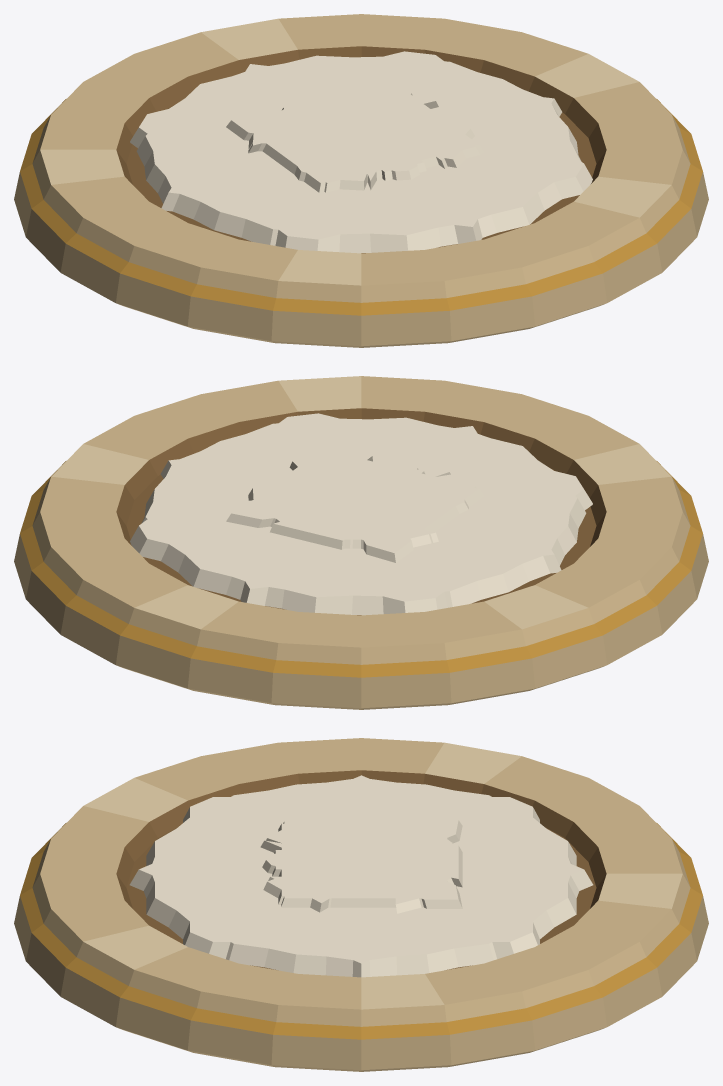
The model's file is SunnyLoop_MedallionKit_v1.fbx.
The picture shows the model from 3 angles, top to bottom: view 1: azimuth 30°, elevation 25°; view 2: azimuth 150°, elevation 25°; view 3: azimuth 270°, elevation 25°; orthographic projection.
Parts seen in each view (by area): view 1: SunnyLoop_Space_Base_v1, SunnyLoop_Space_Inlay_Circle_v1, SunnyLoop_Space_Inlay_Diamond_v1, SunnyLoop_Space_Inlay_Square_v1, SunnyLoop_Space_Inlay_Ring_v1, SunnyLoop_Space_Symbol_Duel_v1, SunnyLoop_Space_Symbol_Reward_v1, SunnyLoop_Space_Symbol_Shop_v1, SunnyLoop_Space_Symbol_Item_v1, SunnyLoop_Space_Symbol_Switch_v1, SunnyLoop_Space_Symbol_Event_v1, SunnyLoop_Space_Symbol_Lose_v1 (+2 smaller); view 2: SunnyLoop_Space_Base_v1, SunnyLoop_Space_Inlay_Circle_v1, SunnyLoop_Space_Inlay_Ring_v1, SunnyLoop_Space_Inlay_Square_v1, SunnyLoop_Space_Symbol_Item_v1, SunnyLoop_Space_Symbol_Switch_v1, SunnyLoop_Space_Symbol_Chaos_v1, SunnyLoop_Space_Symbol_Gain_v1, SunnyLoop_Space_Symbol_Duel_v1, SunnyLoop_Space_Symbol_Reward_v1, SunnyLoop_Space_Symbol_Shop_v1, SunnyLoop_Space_Inlay_Diamond_v1 (+1 smaller); view 3: SunnyLoop_Space_Base_v1, SunnyLoop_Space_Inlay_Circle_v1, SunnyLoop_Space_Inlay_Square_v1, SunnyLoop_Space_Inlay_Ring_v1, SunnyLoop_Space_Symbol_Shop_v1, SunnyLoop_Space_Symbol_Duel_v1, SunnyLoop_Space_Symbol_Reward_v1, SunnyLoop_Space_Inlay_Diamond_v1, SunnyLoop_Space_Symbol_Chaos_v1, SunnyLoop_Space_Symbol_Switch_v1, SunnyLoop_Space_Symbol_Item_v1, SunnyLoop_Space_Symbol_Event_v1 (+1 smaller).
Boxes of the visible parts, x1,y1,x2,y2 form: SunnyLoop_Space_Base_v1: [14, 14, 708, 347]; SunnyLoop_Space_Inlay_Circle_v1: [144, 56, 578, 253]; SunnyLoop_Space_Inlay_Diamond_v1: [161, 64, 562, 243]; SunnyLoop_Space_Inlay_Square_v1: [130, 51, 592, 251]; SunnyLoop_Space_Inlay_Ring_v1: [136, 55, 581, 252]; SunnyLoop_Space_Symbol_Duel_v1: [226, 80, 466, 190]; SunnyLoop_Space_Symbol_Reward_v1: [266, 94, 480, 192]; SunnyLoop_Space_Symbol_Shop_v1: [248, 89, 483, 192]; SunnyLoop_Space_Symbol_Item_v1: [294, 99, 464, 181]; SunnyLoop_Space_Symbol_Switch_v1: [248, 93, 474, 183]; SunnyLoop_Space_Symbol_Event_v1: [277, 96, 419, 180]; SunnyLoop_Space_Symbol_Lose_v1: [300, 104, 416, 169]; SunnyLoop_Space_Base_v1: [14, 376, 708, 709]; SunnyLoop_Space_Inlay_Circle_v1: [144, 418, 578, 615]; SunnyLoop_Space_Inlay_Ring_v1: [141, 417, 586, 614]; SunnyLoop_Space_Inlay_Square_v1: [130, 413, 592, 613]; SunnyLoop_Space_Symbol_Item_v1: [273, 454, 468, 528]; SunnyLoop_Space_Symbol_Switch_v1: [251, 456, 476, 548]; SunnyLoop_Space_Symbol_Chaos_v1: [270, 472, 450, 549]; SunnyLoop_Space_Symbol_Gain_v1: [292, 461, 424, 532]; SunnyLoop_Space_Symbol_Duel_v1: [226, 452, 461, 562]; SunnyLoop_Space_Symbol_Reward_v1: [265, 450, 476, 548]; SunnyLoop_Space_Symbol_Shop_v1: [248, 450, 483, 549]; SunnyLoop_Space_Inlay_Diamond_v1: [160, 426, 561, 605]; SunnyLoop_Space_Base_v1: [14, 738, 708, 1071]; SunnyLoop_Space_Inlay_Circle_v1: [143, 780, 579, 975]; SunnyLoop_Space_Inlay_Square_v1: [183, 797, 539, 958]; SunnyLoop_Space_Inlay_Ring_v1: [146, 778, 576, 976]; SunnyLoop_Space_Symbol_Shop_v1: [281, 815, 447, 913]; SunnyLoop_Space_Symbol_Duel_v1: [263, 820, 462, 908]; SunnyLoop_Space_Symbol_Reward_v1: [278, 823, 454, 904]; SunnyLoop_Space_Inlay_Diamond_v1: [129, 775, 593, 977]; SunnyLoop_Space_Symbol_Chaos_v1: [260, 840, 462, 888]; SunnyLoop_Space_Symbol_Switch_v1: [268, 816, 452, 912]; SunnyLoop_Space_Symbol_Item_v1: [301, 820, 447, 907]; SunnyLoop_Space_Symbol_Event_v1: [262, 842, 449, 889].
Size of the model in its own units: 3.27 by 0.3864 by 3.27.
2 materials, 1 textured.
